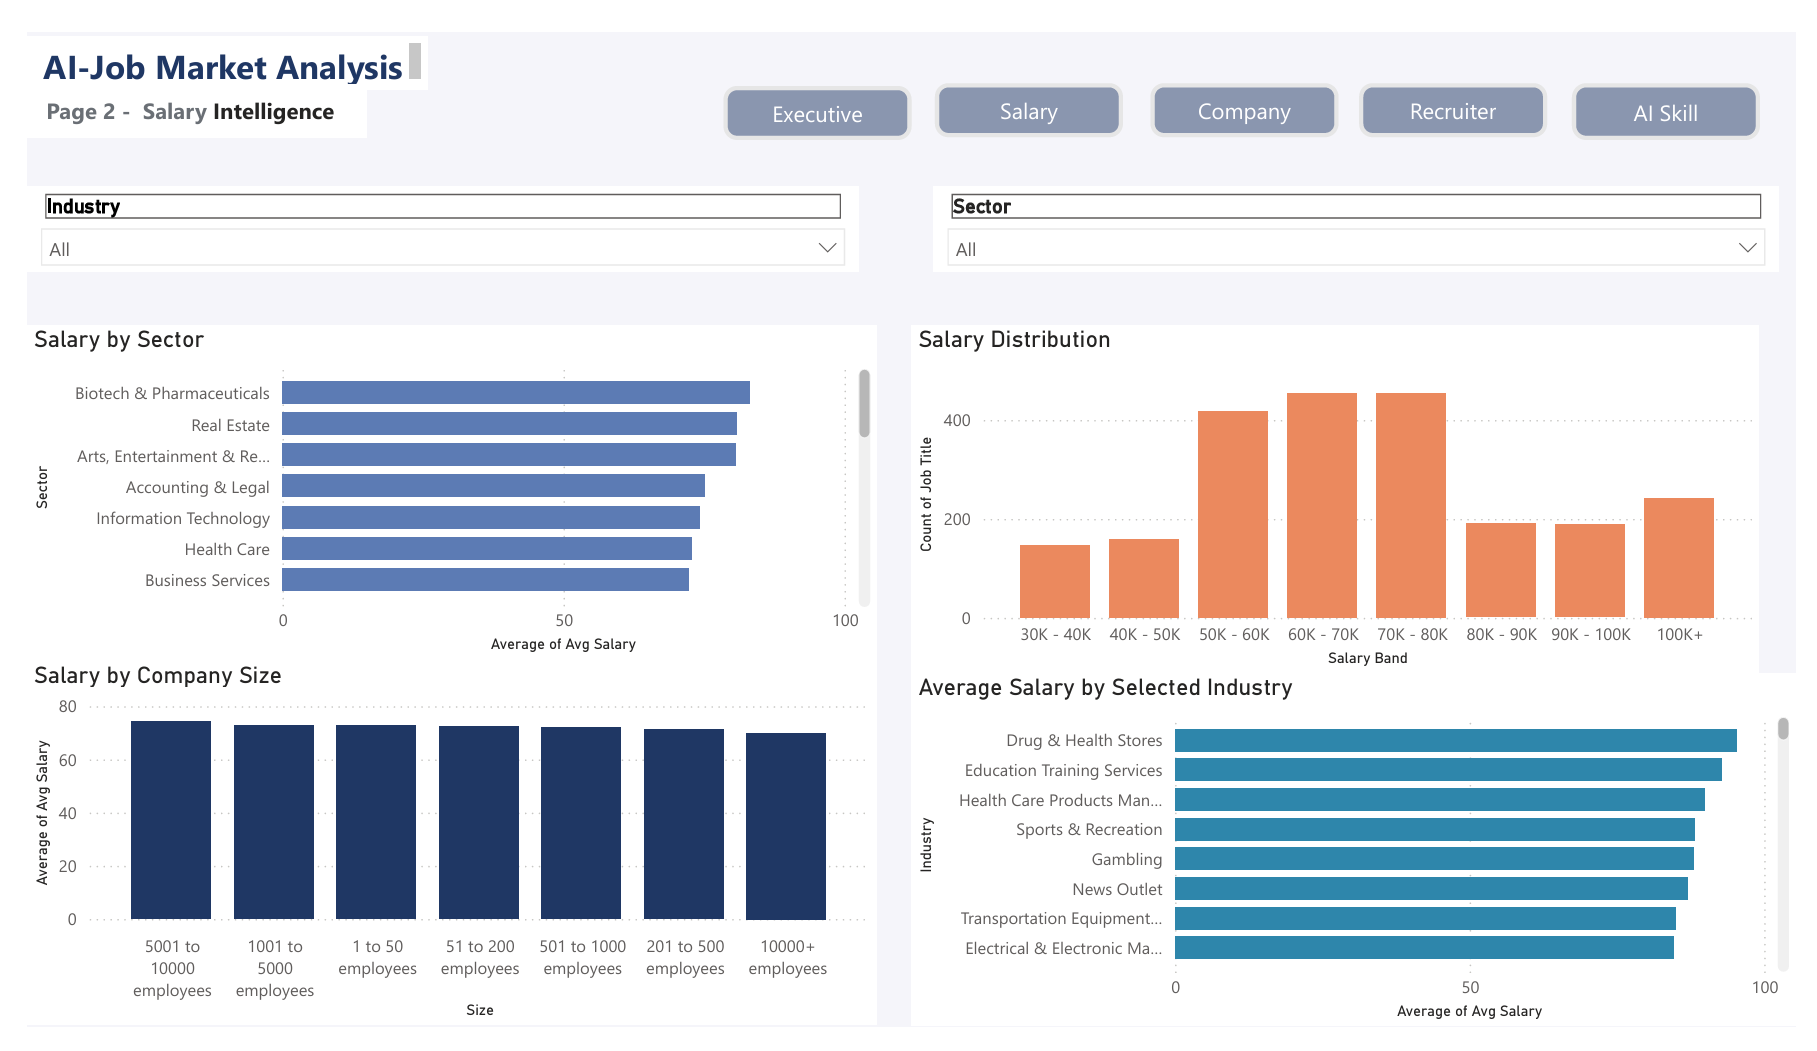

The dashboard page shown, as its layout file describes it:
{"tool":"powerbi","page":{"name":"Salary Intrlligence","canvas":[1280,720],"ordinal":1},"visuals":[{"type":"clusteredColumnChart","title":"Salary Distribution","fields":{"Category":["jobs_sql.Salary Band"],"Y":["CountNonNull(jobs_sql.Job Title)"]},"box":[640.1,212.5,613.2,251.5],"z":0},{"type":"clusteredColumnChart","title":"Salary by Company Size","fields":{"Category":["jobs_sql.Size"],"Y":["Avg(jobs_sql.Avg Salary)"]},"box":[0,454.6,614.6,264.9],"z":1000},{"type":"clusteredBarChart","title":"Salary by Sector","fields":{"Category":["jobs_sql.Sector"],"Y":["Avg(jobs_sql.Avg Salary)"]},"box":[0,212.5,614.6,242.1],"z":2000},{"type":"clusteredBarChart","title":"Average Salary by Selected Industry","fields":{"Category":["jobs_sql.Industry"],"Y":["Avg(jobs_sql.Avg Salary)"]},"box":[640.1,464,640.1,255.5],"z":3000},{"type":"textbox","box":[0,2.7,290.5,39],"z":4000},{"type":"textbox","box":[0,41.4,245.7,35.7],"z":5000},{"type":"slicer","fields":{"Values":["jobs_sql.Industry"]},"box":[0,112,602,62],"z":10000},{"type":"slicer","fields":{"Values":["jobs_sql.Sector"]},"box":[656,112,612,62],"z":11000},{"type":"actionButton","box":[504.4,38.8,135.8,38.8],"z":11001},{"type":"actionButton","box":[656.8,37.4,135.8,38.8],"z":11002},{"type":"actionButton","box":[964.4,37.4,135.8,38.8],"z":11004},{"type":"actionButton","box":[1118.2,37.4,135.8,40.2],"z":11005},{"type":"actionButton","box":[813.3,37.4,135.8,38.8],"z":11006}]}

Visuals, with their boxes in screenshot pixels (x1, y1, x2, y2), scaled from the page's 1280x720 canvas onto the 1817x1051 screenshot:
"Salary Distribution" clusteredColumnChart: x1=909, y1=310, x2=1779, y2=677
"Salary by Company Size" clusteredColumnChart: x1=0, y1=664, x2=872, y2=1050
"Salary by Sector" clusteredBarChart: x1=0, y1=310, x2=872, y2=664
"Average Salary by Selected Industry" clusteredBarChart: x1=909, y1=677, x2=1816, y2=1050
textbox: x1=0, y1=4, x2=412, y2=61
textbox: x1=0, y1=60, x2=349, y2=113
slicer - jobs_sql.Industry: x1=0, y1=163, x2=855, y2=254
slicer - jobs_sql.Sector: x1=931, y1=163, x2=1800, y2=254
actionButton: x1=716, y1=57, x2=909, y2=113
actionButton: x1=932, y1=55, x2=1125, y2=111
actionButton: x1=1369, y1=55, x2=1562, y2=111
actionButton: x1=1587, y1=55, x2=1780, y2=113
actionButton: x1=1155, y1=55, x2=1347, y2=111
